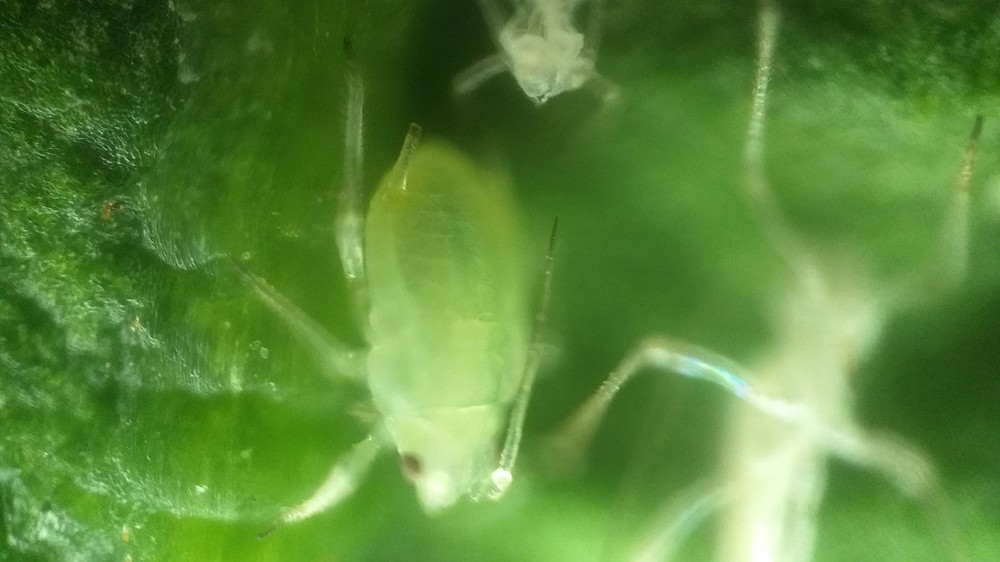Pulgon: (232, 55, 630, 556)
